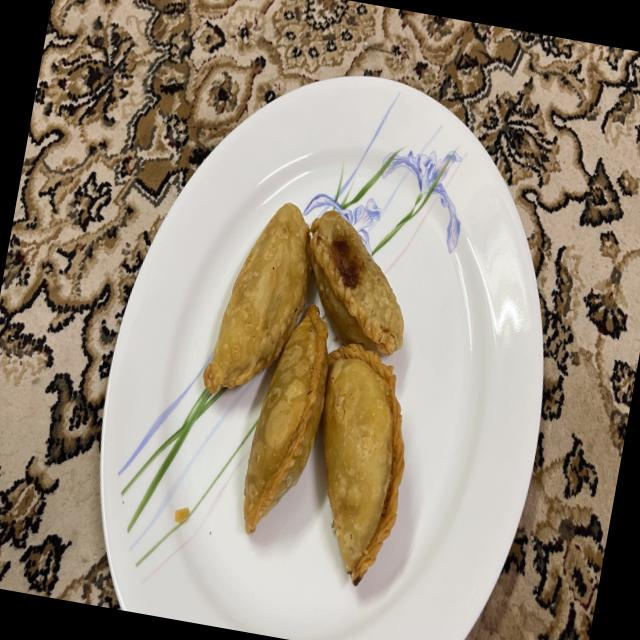karipap: (203, 203, 310, 394), (322, 343, 404, 586), (243, 305, 328, 533), (309, 209, 403, 354)
